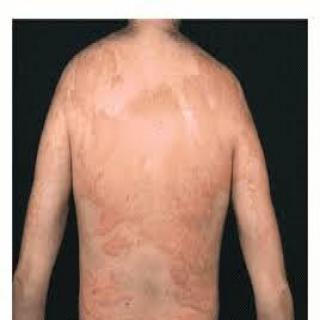urticaria: (77, 115, 207, 312)
